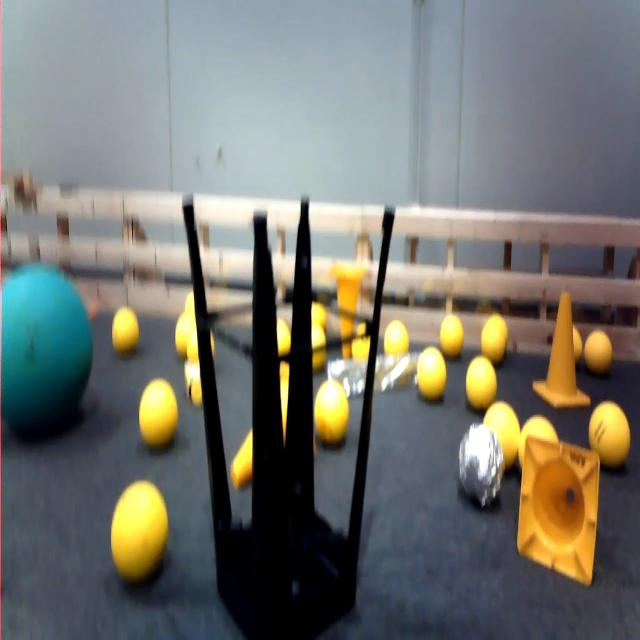fuel: (110, 476, 170, 586), (136, 373, 184, 458), (582, 389, 634, 466), (465, 344, 505, 427), (314, 376, 353, 457), (478, 398, 520, 463), (414, 342, 453, 406), (108, 296, 141, 369), (517, 406, 560, 462), (476, 303, 514, 364), (438, 305, 472, 366), (584, 322, 617, 375), (169, 302, 198, 358), (382, 323, 413, 362), (309, 315, 326, 379)
